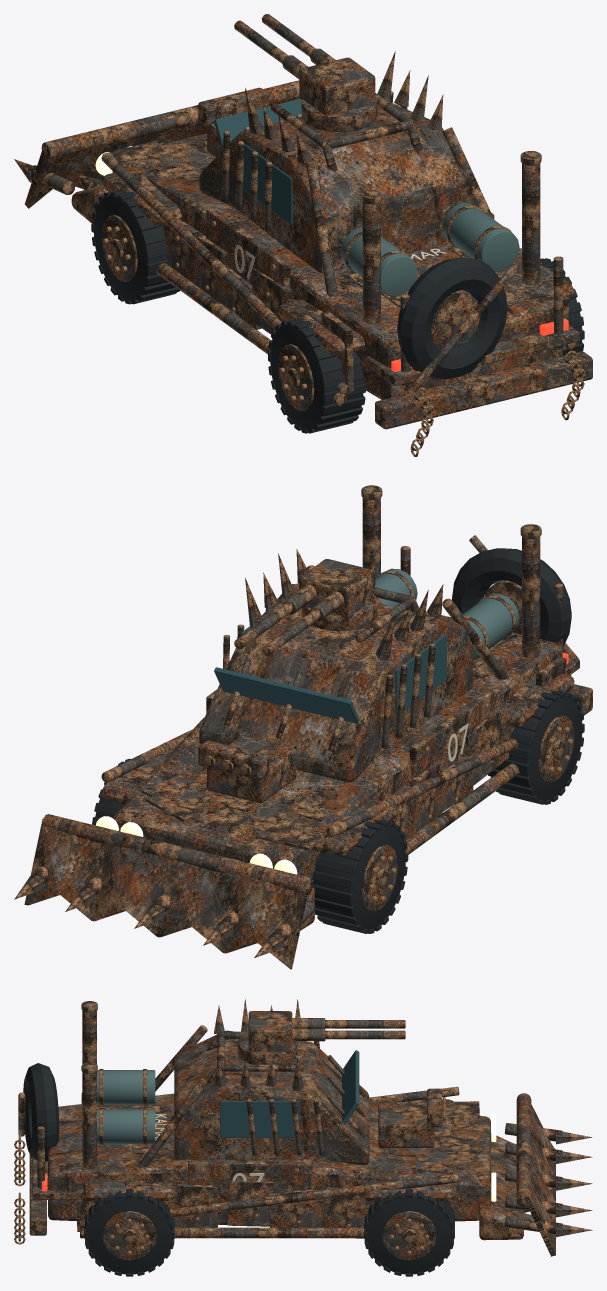
Rendered from interceptor.glb.
3 views of the same model, one above another, from view 1: azimuth 30°, elevation 25°; view 2: azimuth 150°, elevation 25°; view 3: azimuth 270°, elevation 25° (orthographic). The views are drawn at different scales.
Visible parts, largest first — view 1: Cabin, Armored chassis, Strapped rear spare tire, Rear bumper, Plow top reinforcement, Turret housing, All terrain tire.001, Nitro tank.001, All terrain tire, Jagged welded plow, Diagonal welded brace, Riveted door armor (+31 smaller); view 2: Cabin, Armored chassis, Jagged welded plow, Strapped rear spare tire, Plow top reinforcement, All terrain tire, Supercharger, Armored windscreen, All terrain tire.001, Riveted door armor, Turret housing, Diagonal welded brace (+27 smaller); view 3: Armored chassis, Cabin, All terrain tire.002, All terrain tire.003, Riveted door armor.001, Diagonal welded brace.001, Strapped rear spare tire, Front ram, Side glass.001, Supercharger, Jagged welded plow, Side rock slider.001 (+35 smaller).
Boxes of the visible parts, x1,y1,x2,y2 form: Cabin: (199, 102, 472, 273); Armored chassis: (112, 133, 562, 399); Strapped rear spare tire: (397, 257, 507, 379); Rear bumper: (375, 351, 592, 429); Plow top reinforcement: (41, 80, 299, 160); Turret housing: (299, 57, 375, 115); All terrain tire.001: (270, 323, 363, 430); Nitro tank.001: (442, 203, 519, 271); All terrain tire: (94, 194, 173, 301); Jagged welded plow: (25, 123, 206, 208); Diagonal welded brace: (101, 152, 349, 394); Riveted door armor: (206, 207, 290, 287); Cabin: (199, 583, 472, 782); Armored chassis: (113, 609, 562, 881); Jagged welded plow: (24, 819, 308, 969); Strapped rear spare tire: (452, 548, 571, 646); Plow top reinforcement: (41, 814, 313, 895); All terrain tire: (313, 824, 405, 931); Supercharger: (207, 736, 296, 803); Armored windscreen: (214, 667, 359, 723); All terrain tire.001: (491, 694, 582, 802); Riveted door armor: (410, 690, 494, 780); Turret housing: (299, 559, 375, 618); Diagonal welded brace: (326, 738, 518, 837); Armored chassis: (48, 1093, 490, 1224); Cabin: (174, 1030, 369, 1164); All terrain tire.002: (366, 1193, 452, 1274); All terrain tire.003: (86, 1193, 172, 1274); Riveted door armor.001: (188, 1161, 312, 1212); Diagonal welded brace.001: (79, 1173, 459, 1228); Strapped rear spare tire: (23, 1063, 59, 1161); Front ram: (479, 1133, 523, 1240); Side glass.001: (220, 1101, 299, 1137); Supercharger: (378, 1103, 434, 1147); Jagged welded plow: (524, 1104, 555, 1256); Side rock slider.001: (80, 1227, 363, 1238).
Bounding box in the file's own units: 2.54 × 2.35 × 5.96.
Materials: 10 (4 with a texture image).
